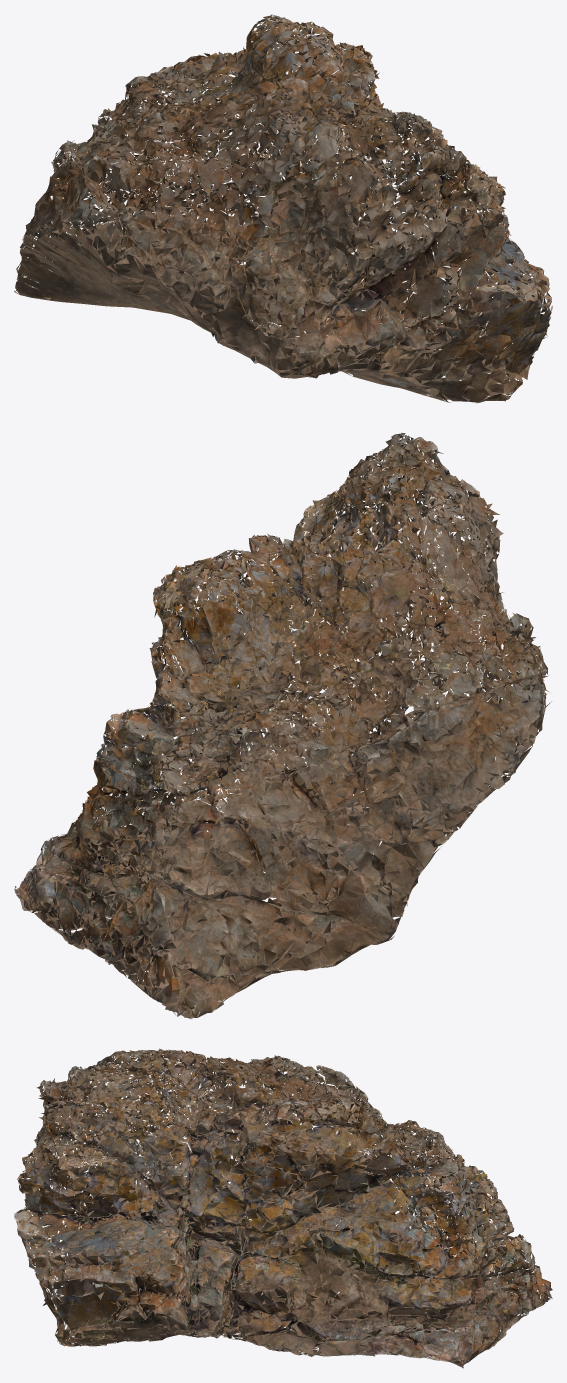
Rendered from boulder-01-lod1.glb.
The picture shows the model from 3 angles, top to bottom: view 1: azimuth 30°, elevation 25°; view 2: azimuth 150°, elevation 25°; view 3: azimuth 270°, elevation 25°; orthographic projection. The views are drawn at different scales.
Visible parts, largest first — view 1: boulder_01; view 2: boulder_01; view 3: boulder_01.
Part boxes in pixels (x1,y1,x2,y2): boulder_01: (14, 14, 552, 403); boulder_01: (14, 432, 551, 1018); boulder_01: (14, 1048, 552, 1368).
Bounding box in the file's own units: 1.28 × 1.01 × 1.83.
1 material, 1 textured.
